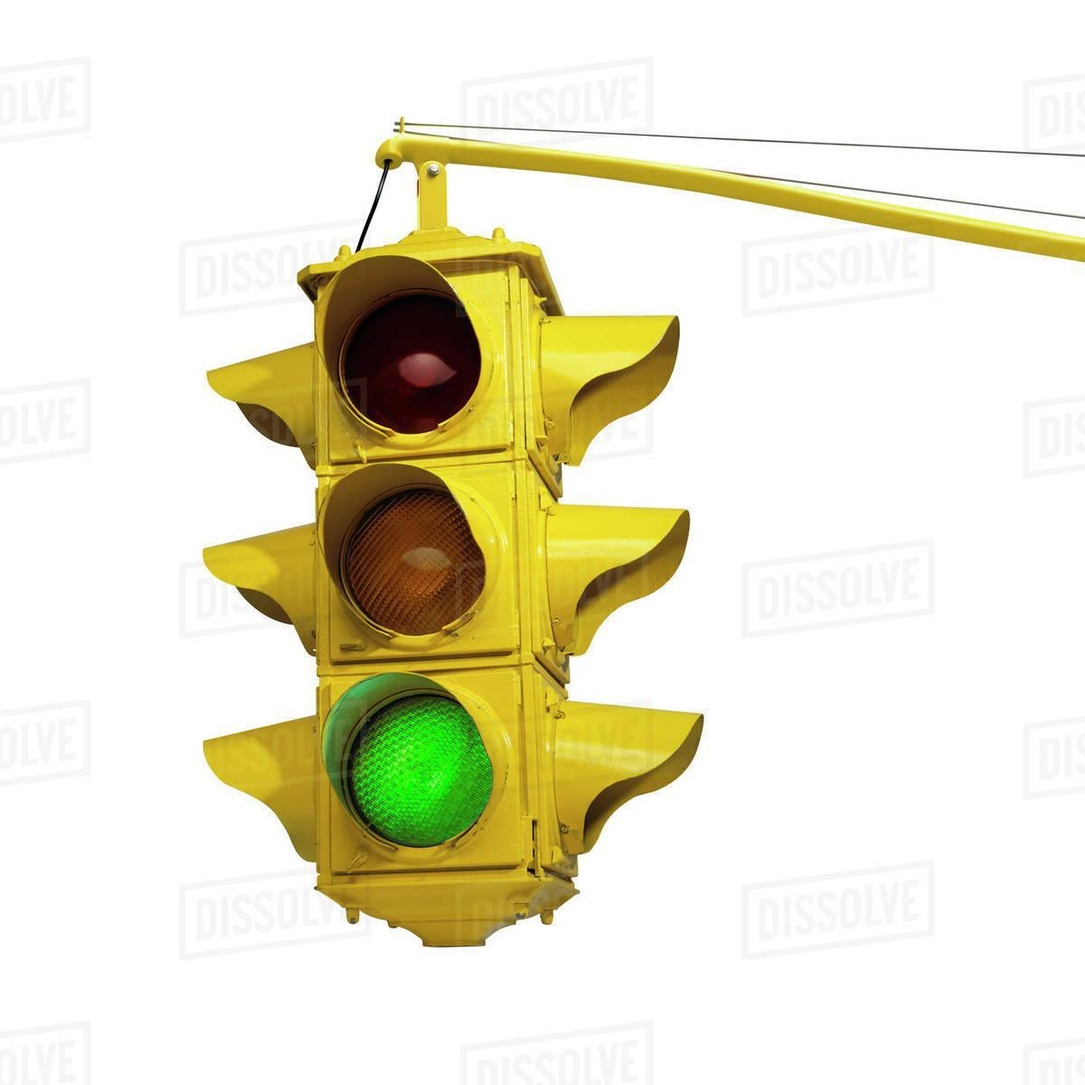green: (292, 253, 555, 916)
